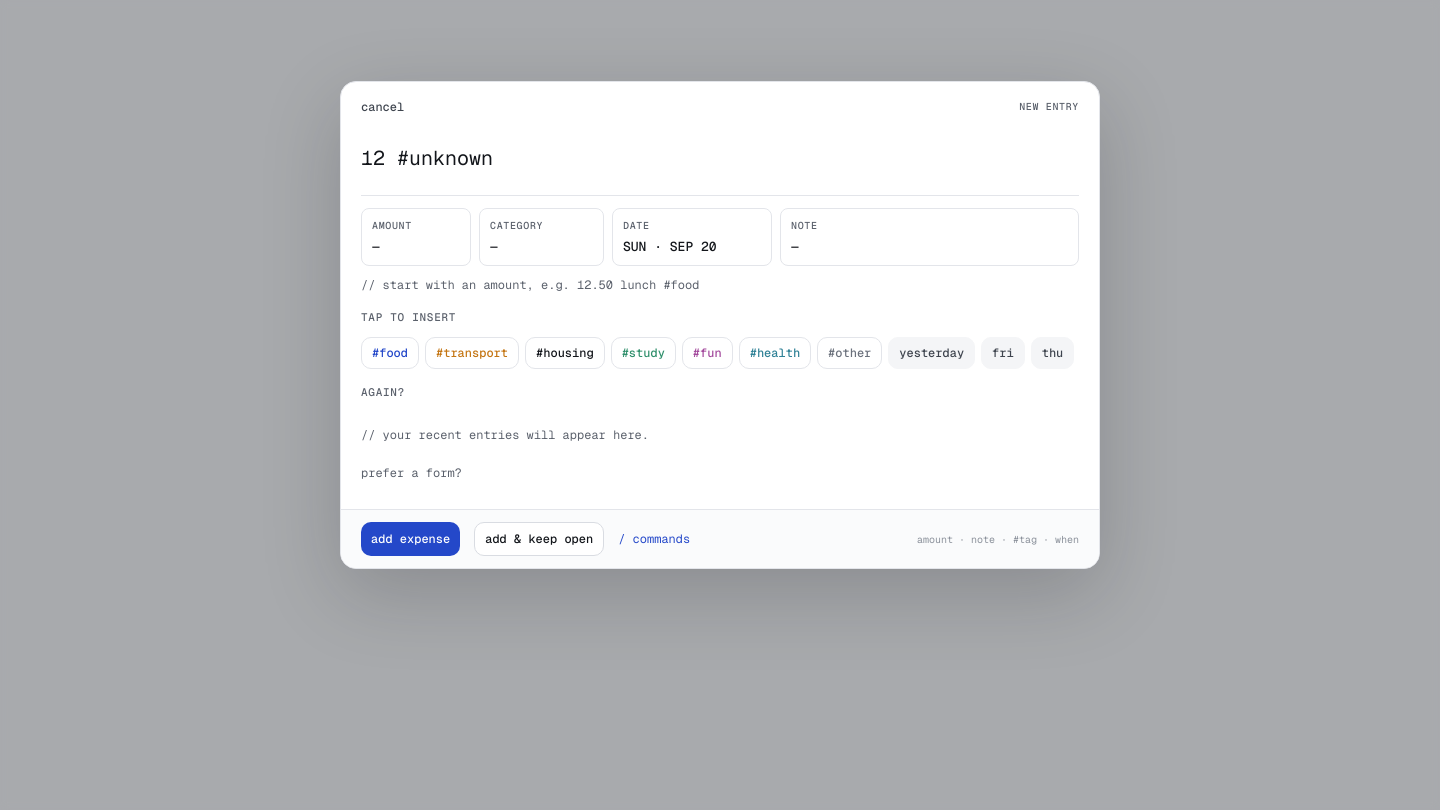
Test case: shows submission failures without closing and clears them when the note changes
Click the button "add expense": (411,539) top-left (361, 522), bottom-right (460, 556)
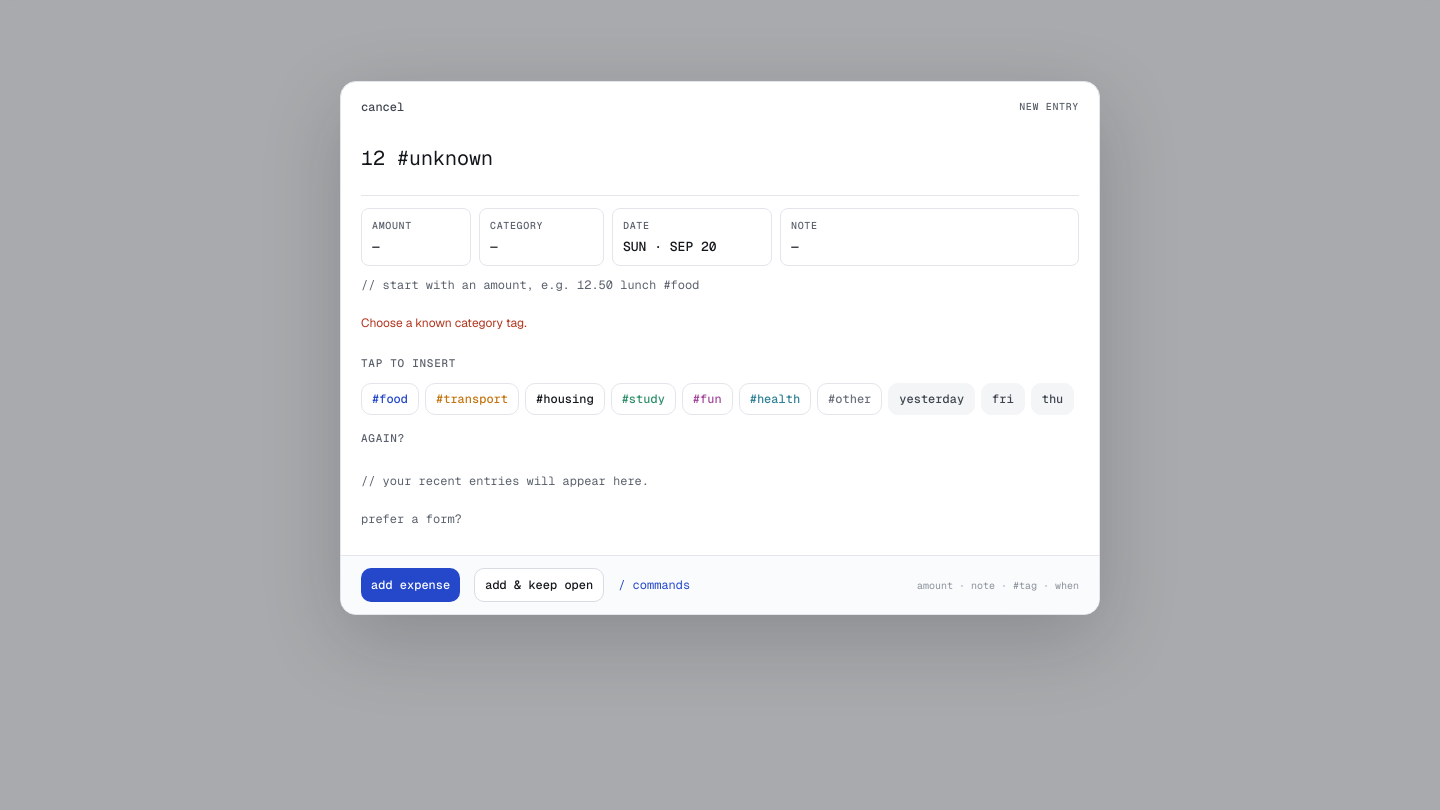
Result: the message reads "Choose a known category tag." at top-left (361, 315), bottom-right (527, 331)
Replace the text in the text box named "TYPE IT LIKE A NOTE" with "12 #food": (720,164) top-left (361, 132), bottom-right (1079, 196)
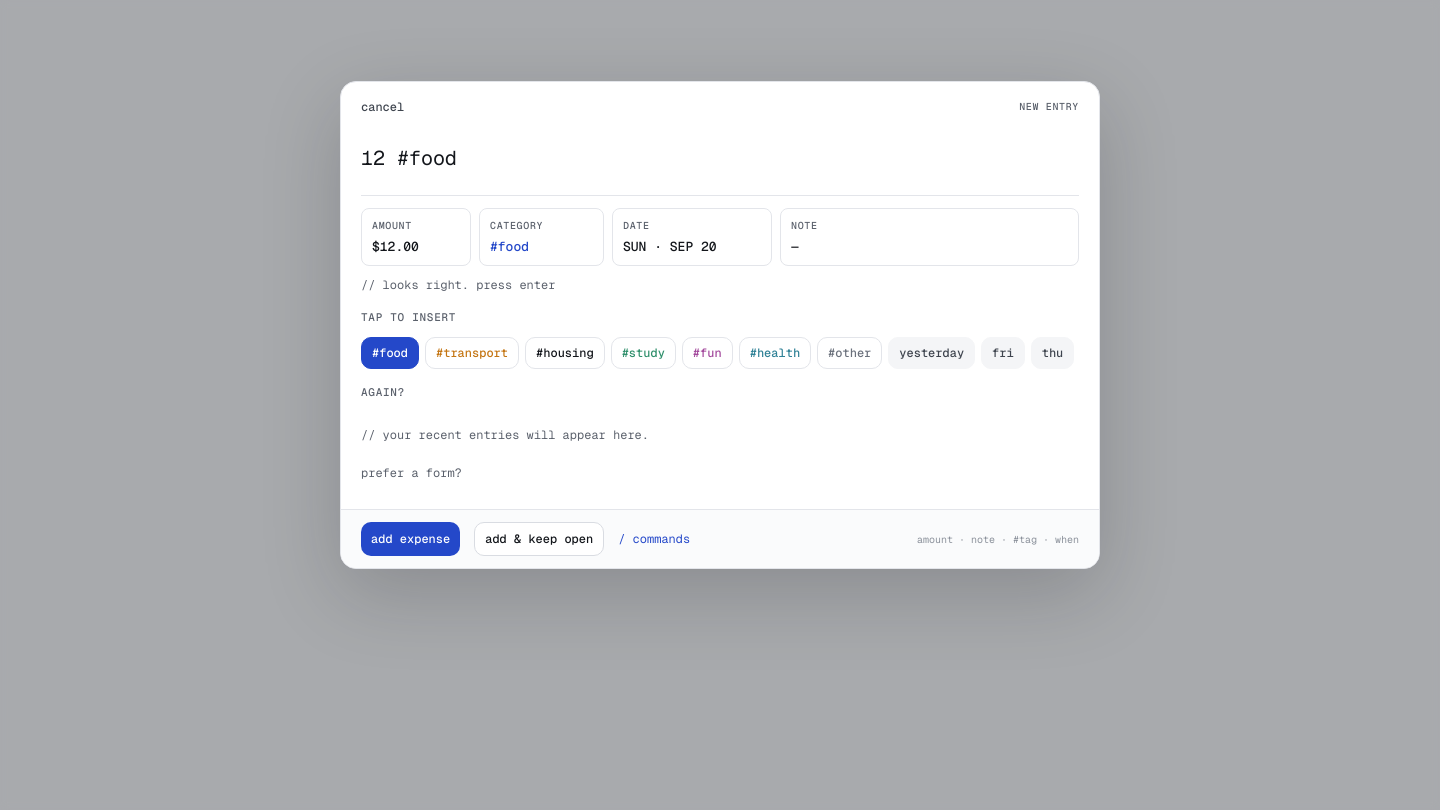
Result: the message "Choose a known category tag." is gone
